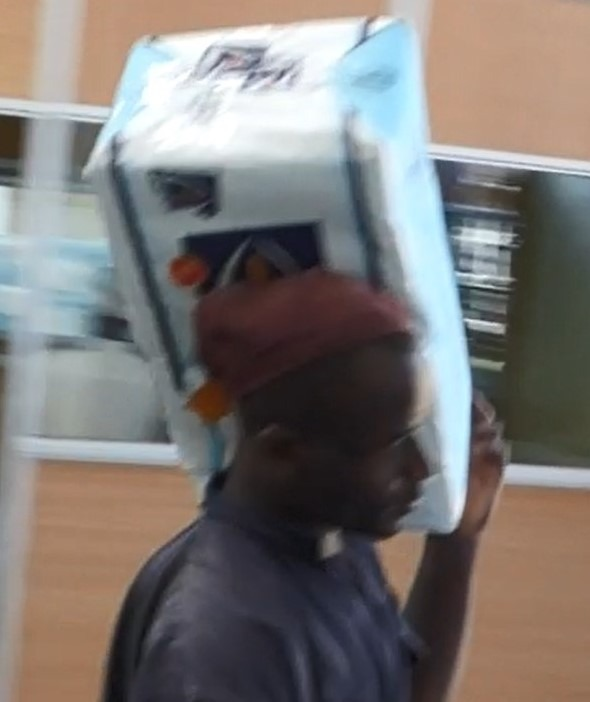wheat_flour_blue_label: (98, 22, 487, 526)
